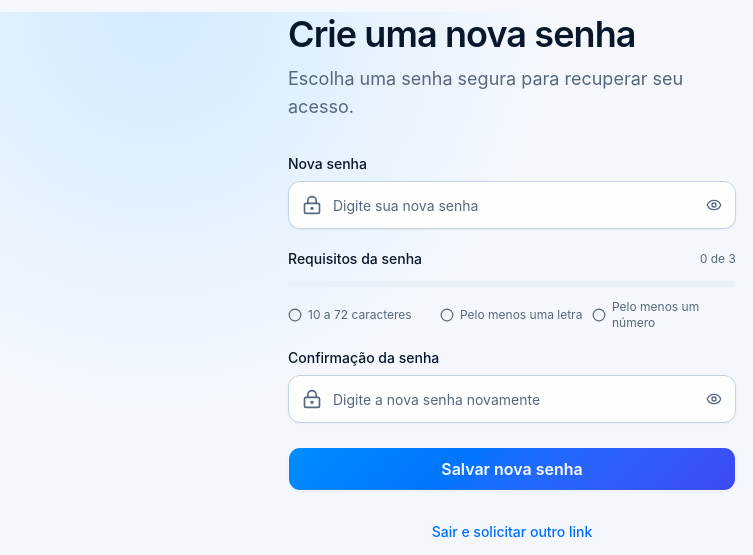
Test case: UpdatePasswordForm › provides accessible visibility controls for both password fields
The image size is (753, 555).
Click the button named "Mostrar nova senha".
click(714, 205)  # box [700,191,728,219]
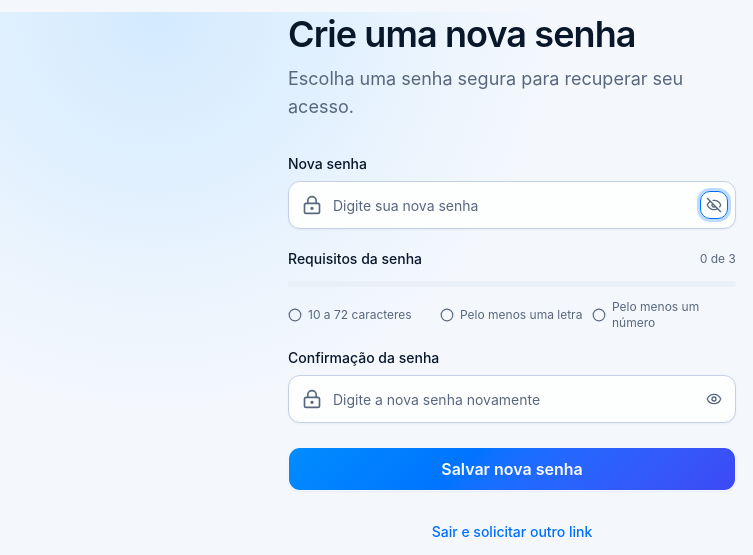
Click the button named "Mostrar confirmação da senha".
click(714, 399)  # box [700,385,728,413]
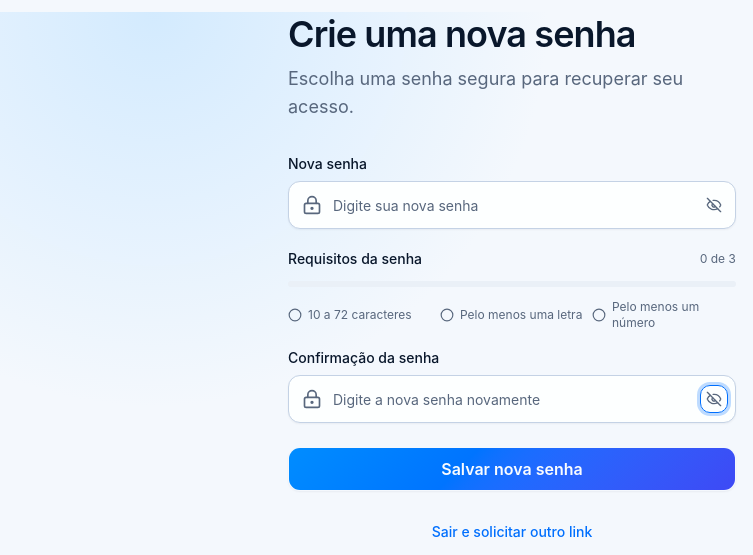
Expected: the button named "Ocultar nova senha" is shown, [700,191,728,219]
Expected: the button named "Ocultar confirmação da senha" is shown, [700,385,728,413]
